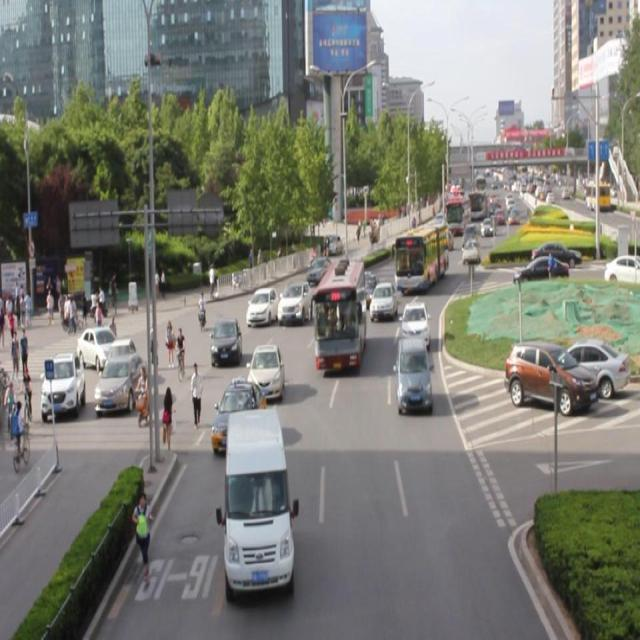car: (211, 378, 267, 449), (396, 334, 431, 411), (248, 343, 281, 397), (212, 316, 242, 365), (278, 280, 312, 323), (401, 300, 428, 350), (246, 287, 276, 326), (369, 279, 395, 320), (355, 270, 378, 308)
truck: (222, 408, 292, 586)
van: (315, 256, 364, 366), (393, 216, 446, 294)
